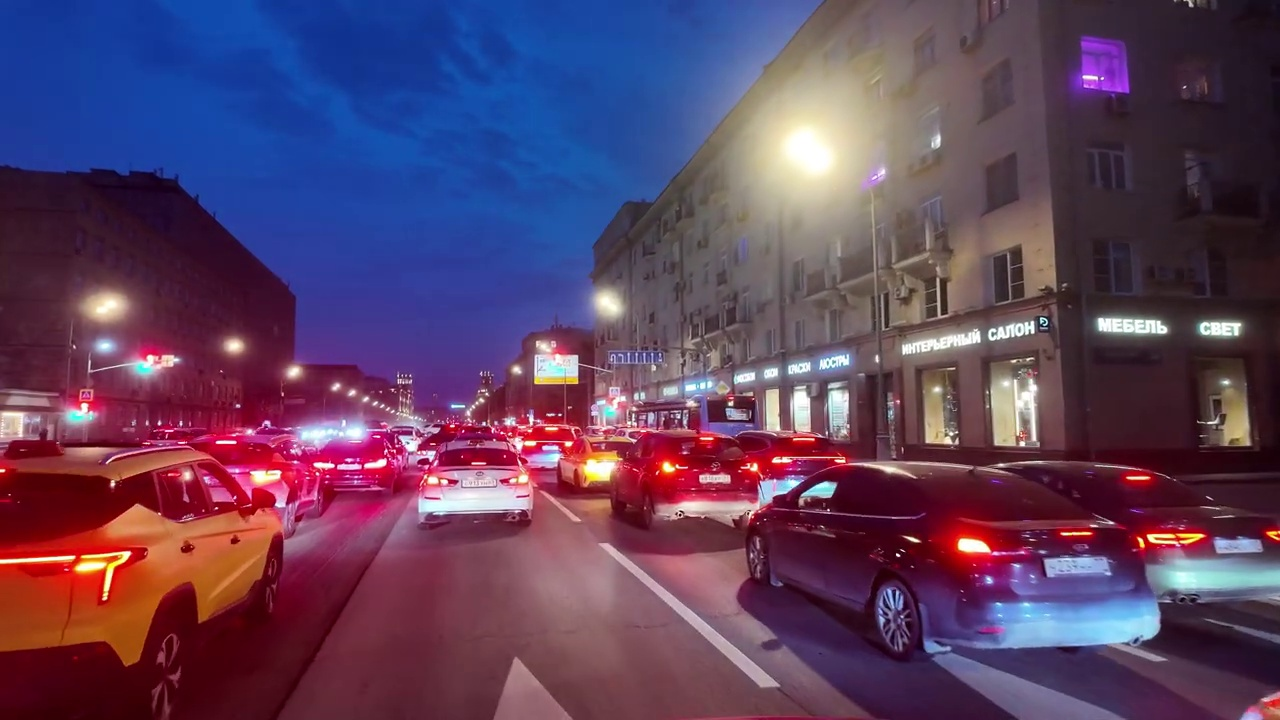acesa: (776, 123, 836, 181), (84, 292, 125, 324), (595, 288, 626, 320), (220, 332, 249, 360)
